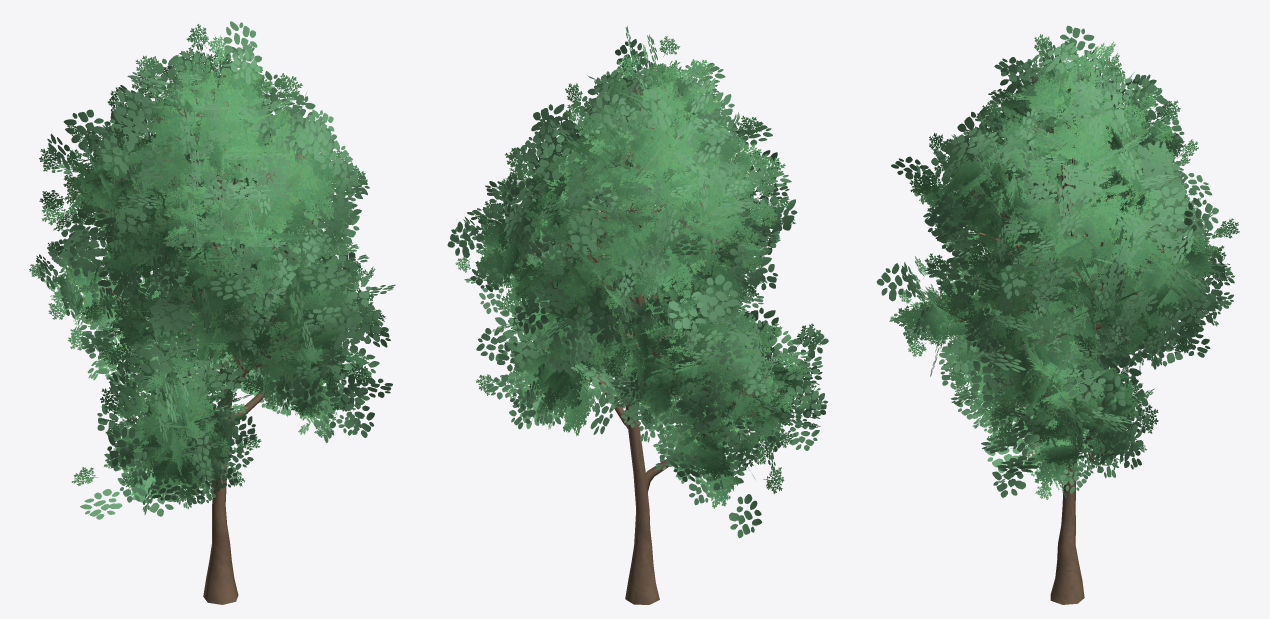
Rendered from Scene_dashu_006.FBX.
The picture shows the model from 3 angles, left to right: view 1: azimuth 30°, elevation 25°; view 2: azimuth 150°, elevation 25°; view 3: azimuth 270°, elevation 25°; orthographic projection.
Visible parts, largest first — view 1: Scene_dashu_006; view 2: Scene_dashu_006; view 3: Scene_dashu_006.
Part boxes in pixels (x1=…): Scene_dashu_006: x1=29, y1=21, x2=395, y2=604; Scene_dashu_006: x1=447, y1=26, x2=828, y2=604; Scene_dashu_006: x1=876, y1=25, x2=1239, y2=604.
Size of the model in its own units: 1237 by 2037 by 1261.
